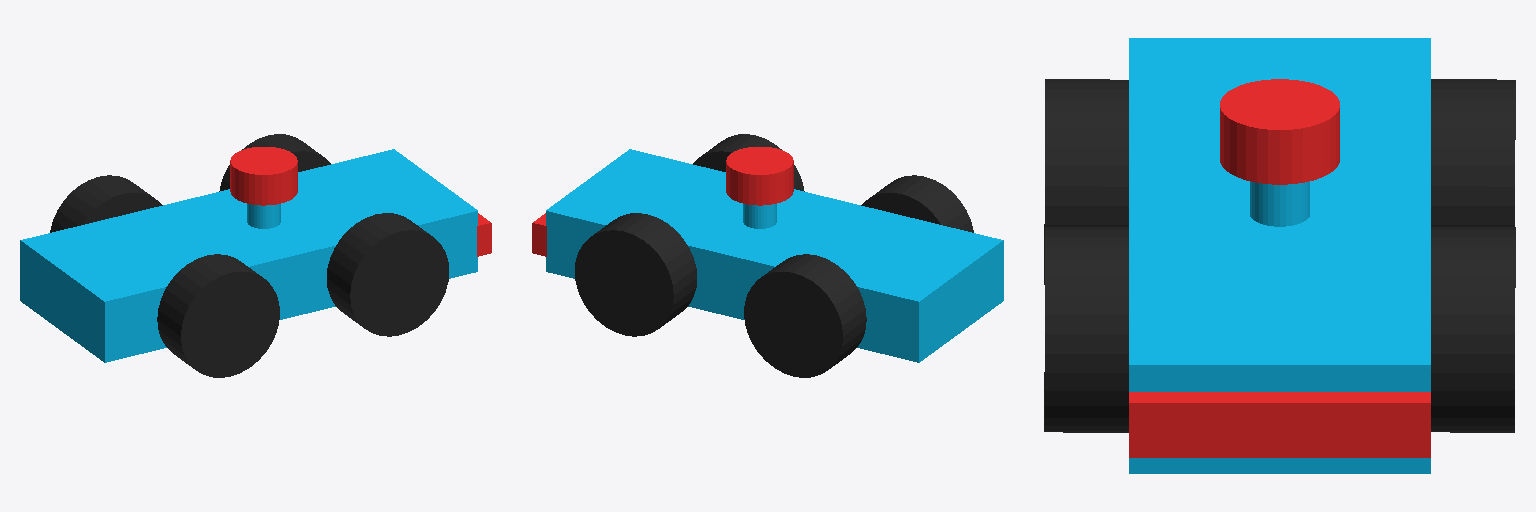
URDF robot description (alex):
<?xml version="1.0" ?>
<robot name="alex">


    <!-- Define the world frame -->
    <link name="world"/>
    

    <!-- Define the chassis link -->
    <link name="base_link">
        <visual>
            <geometry>
                <box size="0.256 0.100 0.040"/>
            </geometry>
            <material name="blue">
                <color rgba="0.1 0.8 1.0 1.0"/>
            </material>
        </visual>
        <collision>
            <geometry>
                <box size="0.256 0.100 0.040"/>
            </geometry>
        </collision>

    </link>

    <!-- Define the front link to indicate front -->
    <link name="front_link">
        <visual>
            <geometry>
                <box size="0.01 0.100 0.020"/>
            </geometry>
            <material name="red">
                <color rgba="1.0 0.2 0.2 1.0"/>
            </material>
        </visual>
    </link>

    
    <!-- Define the wheel link -->
    <link name="front_left_wheel_link">
        <visual>
            <origin rpy="1.57 0 0" xyz="0 0 0" />
            <geometry>
                <cylinder length="0.028" radius="0.034"/>
            </geometry>
            <material name="black">
                <color rgba="0.2 0.2 0.2 1.0"/>
            </material>
        </visual>
    </link>

    <link name="front_right_wheel_link">
        <visual>
            <origin rpy="1.57 0 0" xyz="0 0 0" />
            <geometry>
                <cylinder length="0.028" radius="0.034"/>
            </geometry>
            <material name="black">
                <color rgba="0.2 0.2 0.2 1.0"/>
            </material>
        </visual>
    </link>

    <link name="rear_left_wheel_link">
        <visual>
        <origin rpy="1.57 0 0" xyz="0 0 0" />
            <geometry>
                <cylinder length="0.028" radius="0.034"/>
            </geometry>
            <material name="black">
                <color rgba="0.2 0.2 0.2 1.0"/>
            </material>
        </visual>
    </link>

    <link name="rear_right_wheel_link">
        <visual>
        <origin rpy="1.57 0 0" xyz="0 0 0" />
            <geometry>
                <cylinder length="0.028" radius="0.034"/>
            </geometry>
            <material name="black">
                <color rgba="0.2 0.2 0.2 1.0"/>
            </material>
        </visual>
    </link>

    <!-- Define link for lidar column-->
    <link name="laser_column_link">
        <visual>
            <geometry>
                <cylinder length="0.04" radius="0.01"/>
            </geometry>
            <material name="blue">
                <color rgba="0.1 0.8 1.0 1.0"/>
            </material>
        </visual>
    </link>

    <!-- Define link for lidar -->
    <link name="laser_link">
        <visual>
            <geometry>
                <cylinder length="0.02" radius="0.02"/>
            </geometry>
            <material name="red">
                <color rgba="1.0 0.2 0.2 1.0"/>
            </material>
        </visual>
    </link>

    <!-- Define joint for base link -->
    <joint name="base_joint" type="fixed">
        <parent link="world"/>
        <child link="base_link"/>
        <origin xyz="0 0 0.02" rpy="0 0 0"/>
    </joint>

    <joint name="front_joint" type="fixed">
        <parent link="base_link"/>
        <child link="front_link"/>
        <origin xyz="0.132 0 0" rpy="0 0 0"/>
    </joint>

    <!-- Define joint for lidar column -->
    <joint name="laser_column_joint" type="fixed">
        <parent link="base_link"/>
        <child link="laser_column_link"/>
        <origin xyz="0.01 0 0.02" rpy="0 0 0"/>
    </joint>

    <!-- Define joint for lidar -->
    <joint name="laser_joint" type="fixed">
        <parent link="laser_column_link"/>
        <child link="laser_link"/>
        <origin xyz="0 0 0.03" rpy="0 0 0"/>
    </joint>

    <!-- Define the wheel joints -->
    <joint name="rear_left_wheel_joint" type="continuous">
        <parent link="base_link"/>
        <child link="rear_left_wheel_link"/>
        <origin xyz="-0.058 0.064 0" rpy="0 0 0"/>
        <axis xyz="0 1 0"/>
    </joint>

    <joint name="rear_right_wheel_joint" type="continuous">
        <parent link="base_link"/>
        <child link="rear_right_wheel_link"/>
        <origin xyz="-0.058 -0.064 0" rpy="0 0 0"/>
        <axis xyz="0 1 0"/>
    </joint>

    <joint name="front_left_wheel_joint" type="continuous">
        <parent link="base_link"/>
        <child link="front_left_wheel_link"/>
        <origin xyz="0.058 0.064 0" rpy="0 0 0"/>
        <axis xyz="0 1 0"/>
    </joint>

    <joint name="front_right_wheel_joint" type="continuous">
        <parent link="base_link"/>
        <child link="front_right_wheel_link"/>
        <origin xyz="0.058 -0.064 0" rpy="0 0 0"/>
        <axis xyz="0 1 0"/>
    </joint>

</robot>

--- Facts derived from the render (not from the file) ---
The picture shows the robot from 3 angles, left to right: view 1: azimuth 30°, elevation 25°; view 2: azimuth 150°, elevation 25°; view 3: azimuth 270°, elevation 25°; orthographic projection.
Robot: alex — 9 links, 8 joints (4 continuous, 4 fixed); root link world; default pose: all joints at 0.
Visible links, largest first — view 1: base_link, rear_right_wheel_link, front_right_wheel_link, laser_link, rear_left_wheel_link, front_left_wheel_link, laser_column_link, front_link; view 2: base_link, rear_left_wheel_link, front_left_wheel_link, laser_link, rear_right_wheel_link, front_right_wheel_link, laser_column_link, front_link; view 3: base_link, front_link, front_left_wheel_link, front_right_wheel_link, rear_left_wheel_link, rear_right_wheel_link, laser_link, laser_column_link.
Boxes of the visible links, box(x1,y1,x2,y2) form: base_link: box(20, 149, 477, 362); rear_right_wheel_link: box(157, 254, 279, 377); front_right_wheel_link: box(327, 213, 448, 336); laser_link: box(230, 147, 297, 205); rear_left_wheel_link: box(50, 175, 162, 232); front_left_wheel_link: box(219, 134, 330, 191); laser_column_link: box(247, 204, 280, 228); front_link: box(477, 213, 491, 256); base_link: box(546, 149, 1003, 362); rear_left_wheel_link: box(744, 254, 866, 377); front_left_wheel_link: box(575, 213, 696, 336); laser_link: box(726, 147, 793, 205); rear_right_wheel_link: box(861, 175, 973, 232); front_right_wheel_link: box(693, 134, 804, 191); laser_column_link: box(743, 204, 776, 228); front_link: box(532, 213, 546, 256); base_link: box(1129, 38, 1430, 473); front_link: box(1129, 392, 1430, 457); front_left_wheel_link: box(1431, 227, 1515, 432); front_right_wheel_link: box(1044, 227, 1128, 432); rear_left_wheel_link: box(1431, 79, 1515, 226); rear_right_wheel_link: box(1044, 79, 1128, 284); laser_link: box(1220, 79, 1339, 184); laser_column_link: box(1250, 181, 1309, 226).
Size in the robot's own frame: 0.265 by 0.1561 by 0.094 metres.
Geometry: primitives only (box / cylinder / sphere), no mesh files.
